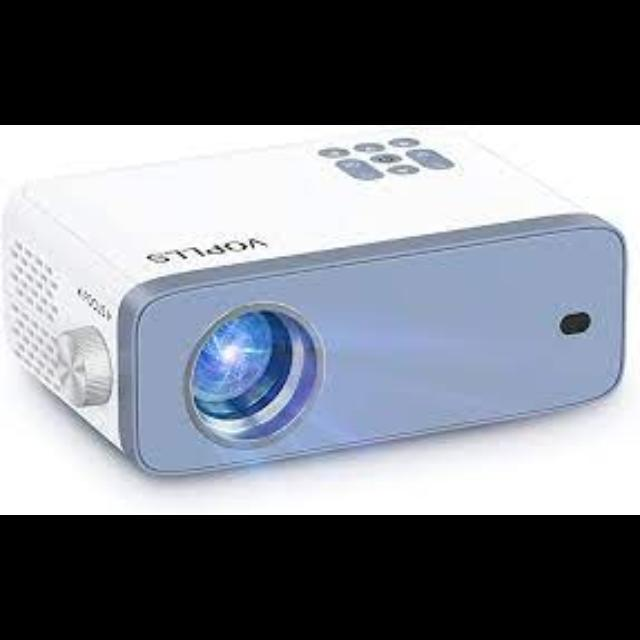Projector: (2, 130, 630, 470)
